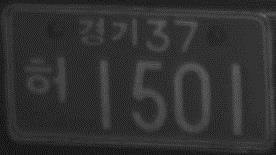0: (172, 61, 213, 135)
1: (227, 61, 249, 137), (97, 56, 117, 134)
3: (145, 18, 170, 54)
5: (129, 57, 167, 132)
7: (171, 17, 201, 54)
경기_O: (75, 16, 140, 49)
허: (23, 55, 70, 102)
